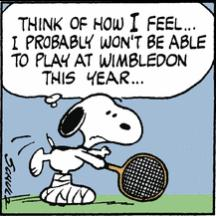snoopy: (27, 90, 170, 206)
